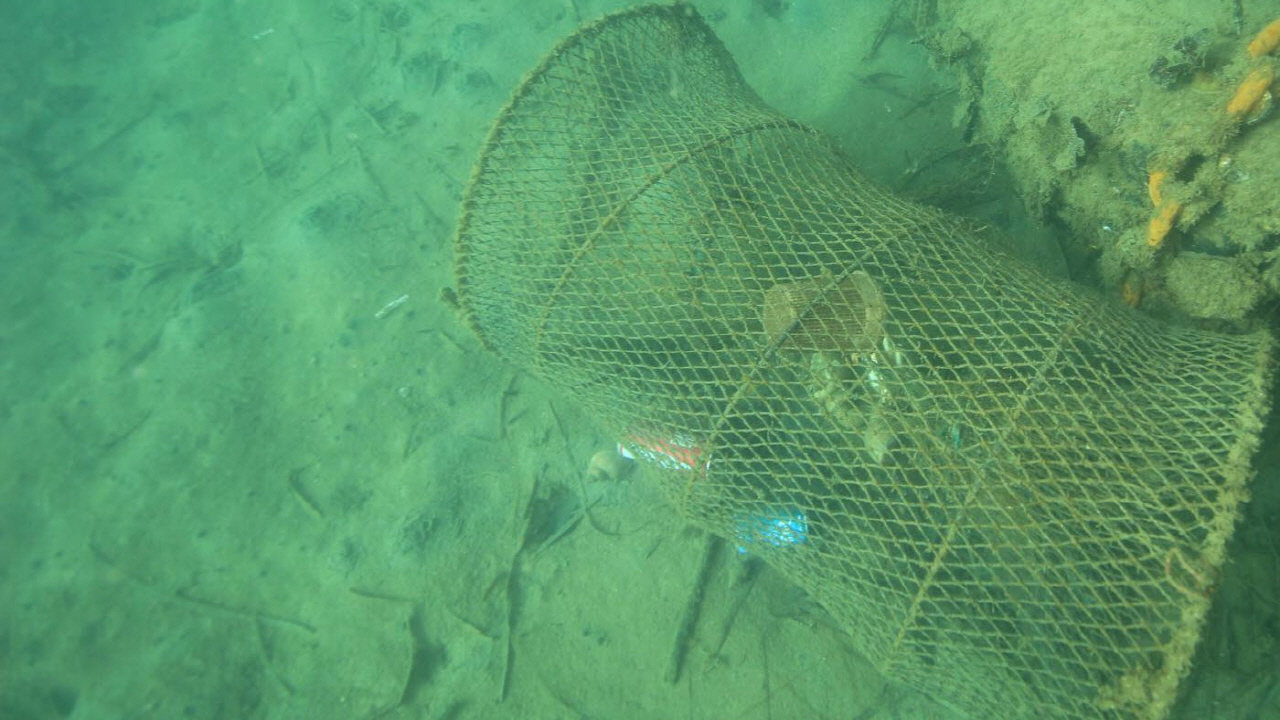spring fish trap: (448, 3, 1279, 720)
